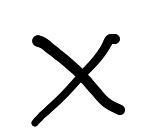mult: (32, 34, 125, 127)
